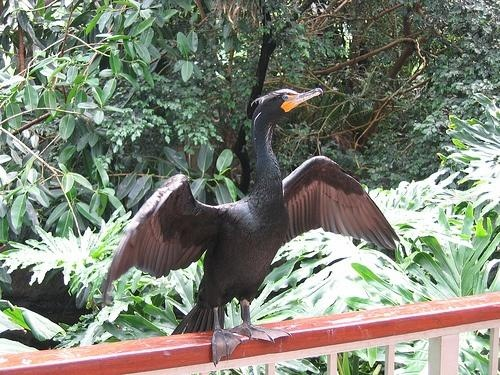bird: (100, 89, 402, 367)
